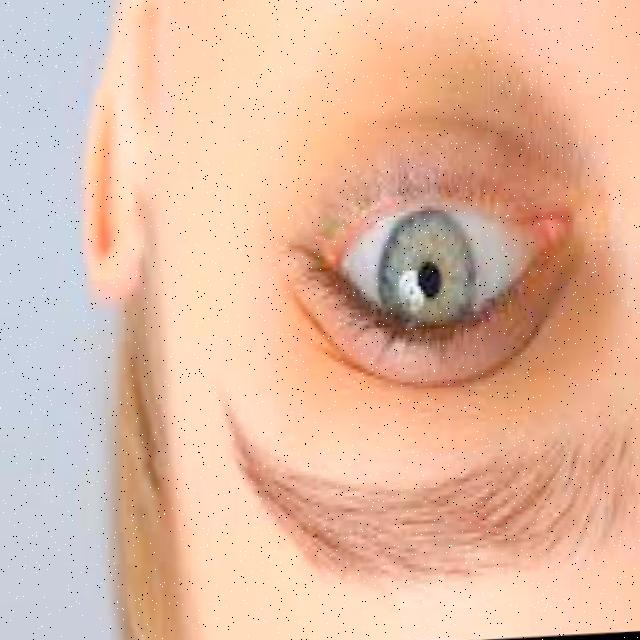puffy_eyes: (302, 53, 565, 221)
